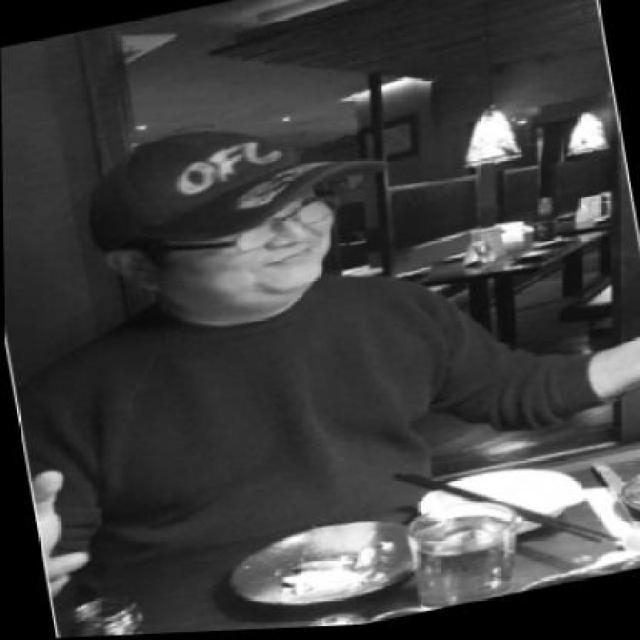hat: (63, 97, 383, 268)
